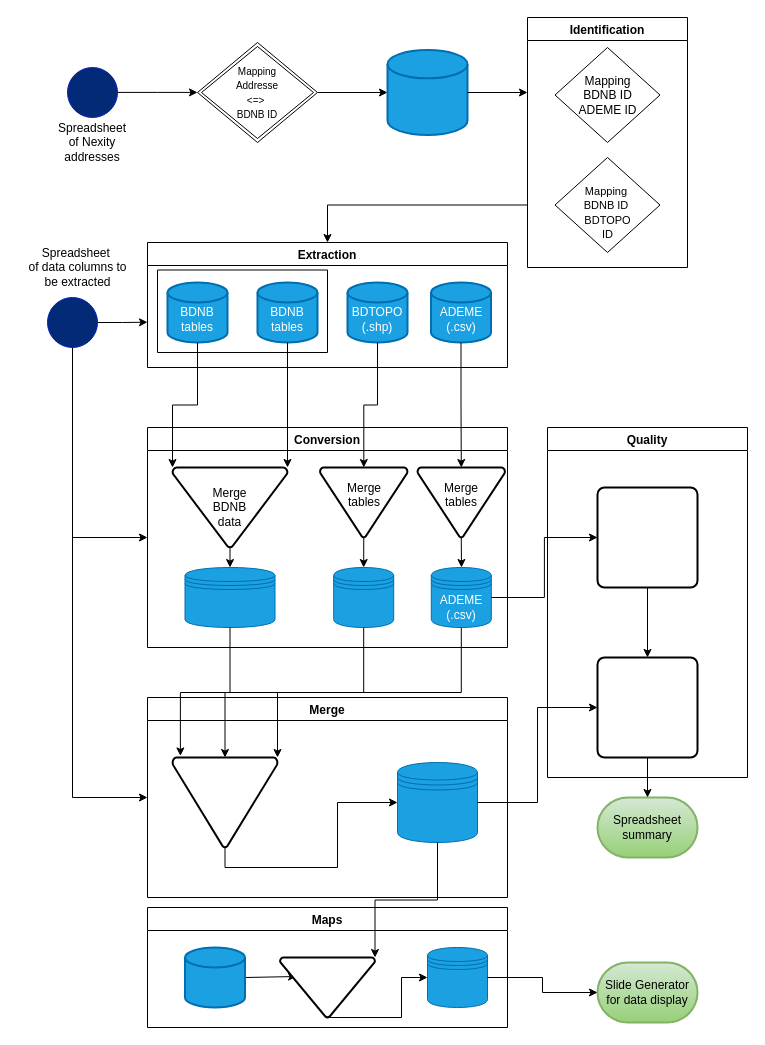
Some shapes in this 765 by 1045 pixel diagram are drawn without their labels. The shapes that lost their labels are listed below. From the top down, each one's centre as x and y in pixels, then its label:
At pixel 427 92: "BDNB database (csv format)".
At pixel 647 537: "Volume of data present in source bases".
At pixel 229 597: "Personalised table structure".
At pixel 363 597: "BDTOPO (.csv)".
At pixel 647 707: "Volume of data present in final base (after merging duplicates etc.)".
At pixel 224 802: "Merge sources".
At pixel 437 802: "Extracted data".
At pixel 215 977: "Maps API".
At pixel 327 987: "Street view".
At pixel 457 977: "Final data".
